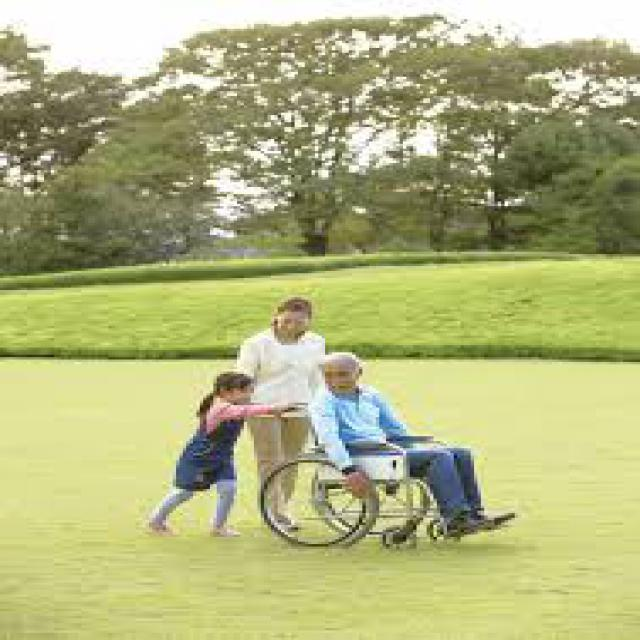wheelchairs: (257, 396, 535, 548)
